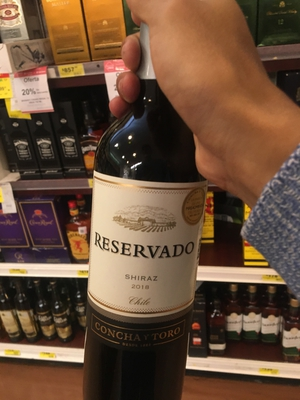reservado shiraz: (76, 76, 213, 400)
